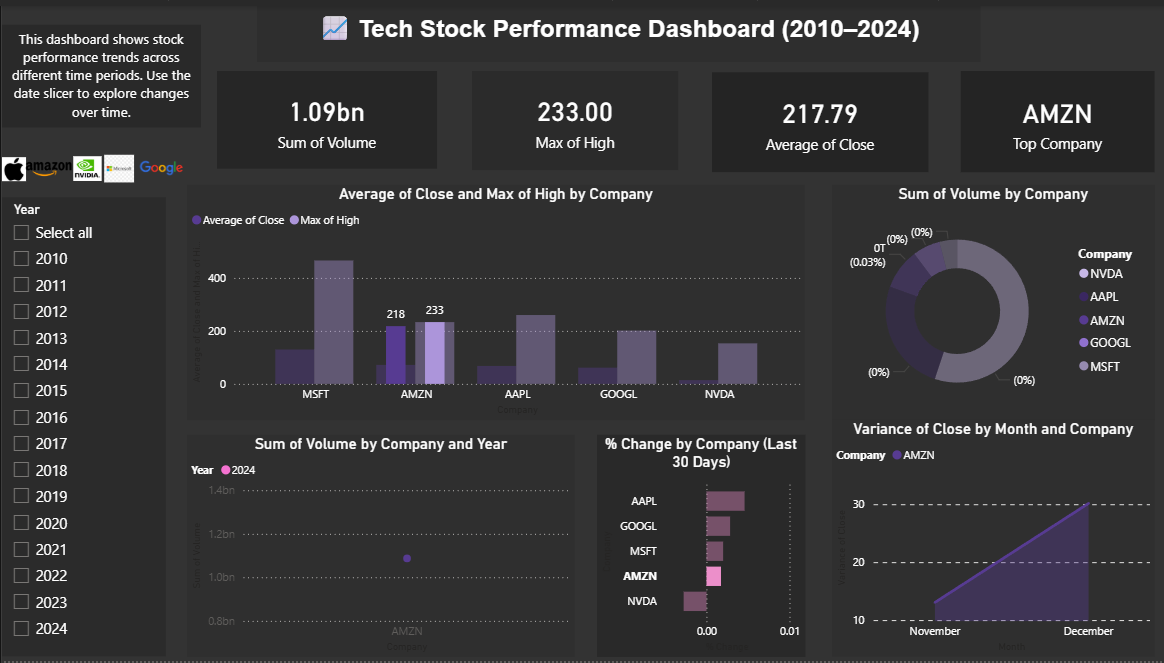

The dashboard page shown, as its layout file describes it:
{"tool":"powerbi","page":{"name":"Page 1","canvas":[1280,720],"ordinal":0},"visuals":[{"type":"card","fields":{"Values":["Max(Stock data.High)"]},"box":[516,71.4,226.4,108.4],"z":0},{"type":"clusteredColumnChart","fields":{"Category":["Stock data.Company"],"Y":["Avg(Stock data.Close)","Max(Stock data.High)"]},"box":[202.9,195.7,678.6,258.6],"z":1000},{"type":"slicer","fields":{"Values":["Stock data.Year"]},"box":[0,209.9,179.8,503.6],"z":2000},{"type":"card","fields":{"Values":["Sum(Stock data.Volume)"]},"box":[236,71.4,241.5,107],"z":3000},{"type":"textbox","box":[279.9,0,794.5,61.7],"z":4000},{"type":"donutChart","fields":{"Category":["Stock data.Company"],"Y":["Sum(Stock data.Volume)"]},"box":[911.4,195.7,354.3,258.6],"z":5000},{"type":"card","fields":{"Values":["Avg(Stock data.Close)"]},"box":[779.4,72.7,237.4,109.8],"z":6000},{"type":"image","box":[0,161.9,26.1,34.3],"z":7000},{"type":"image","box":[26.1,164.7,50.8,28.8],"z":8000},{"type":"image","box":[78.2,163.3,31.6,30.2],"z":9000},{"type":"image","box":[109.8,163.3,37,30.2],"z":10000},{"type":"image","box":[146.8,167.4,56.3,20.6],"z":11000},{"type":"areaChart","fields":{"Category":["Stock data.Date.Variation.Date Hierarchy.Month"],"Series":["Stock data.Company"],"Y":["Variance(Stock data.Close)"]},"box":[911.4,454.3,354.3,260],"z":12000},{"type":"card","fields":{"Values":["Stock data.Top Company"]},"box":[1052.5,71.4,212.7,111.1],"z":13000},{"type":"clusteredBarChart","title":"% Change by Company (Last 30 Days)","fields":{"Category":["Stock data.Company"],"Y":["Stock data.% Change"]},"box":[652.9,470,228.6,244.3],"z":14000},{"type":"textbox","box":[0,20.6,218.2,112.5],"z":15000},{"type":"areaChart","fields":{"Category":["Stock data.Company"],"Y":["Sum(Stock data.Volume)"],"Series":["Stock data.Year"]},"box":[202.9,470,425.7,244.3],"z":16000}]}

Visuals, with their boxes in screenshot pixels (x1, y1, x2, y2), scaled from the page's 1280x720 canvas onto the 1164x663 screenshot:
card - Max(Stock data.High): (469,66,675,166)
clusteredColumnChart - Stock data.Company x Avg(Stock data.Close): (185,180,802,418)
slicer - Stock data.Year: (0,193,164,657)
card - Sum(Stock data.Volume): (215,66,434,164)
textbox: (255,0,977,57)
donutChart - Stock data.Company x Sum(Stock data.Volume): (829,180,1151,418)
card - Avg(Stock data.Close): (709,67,925,168)
image: (0,149,24,181)
image: (24,152,70,178)
image: (71,150,100,178)
image: (100,150,133,178)
image: (133,154,185,173)
areaChart - Stock data.Date.Variation.Date Hierarchy.Month x Stock data.Company: (829,418,1151,658)
card - Stock data.Top Company: (957,66,1151,168)
"% Change by Company (Last 30 Days)" clusteredBarChart: (594,433,802,658)
textbox: (0,19,198,123)
areaChart - Stock data.Company x Sum(Stock data.Volume): (185,433,572,658)
